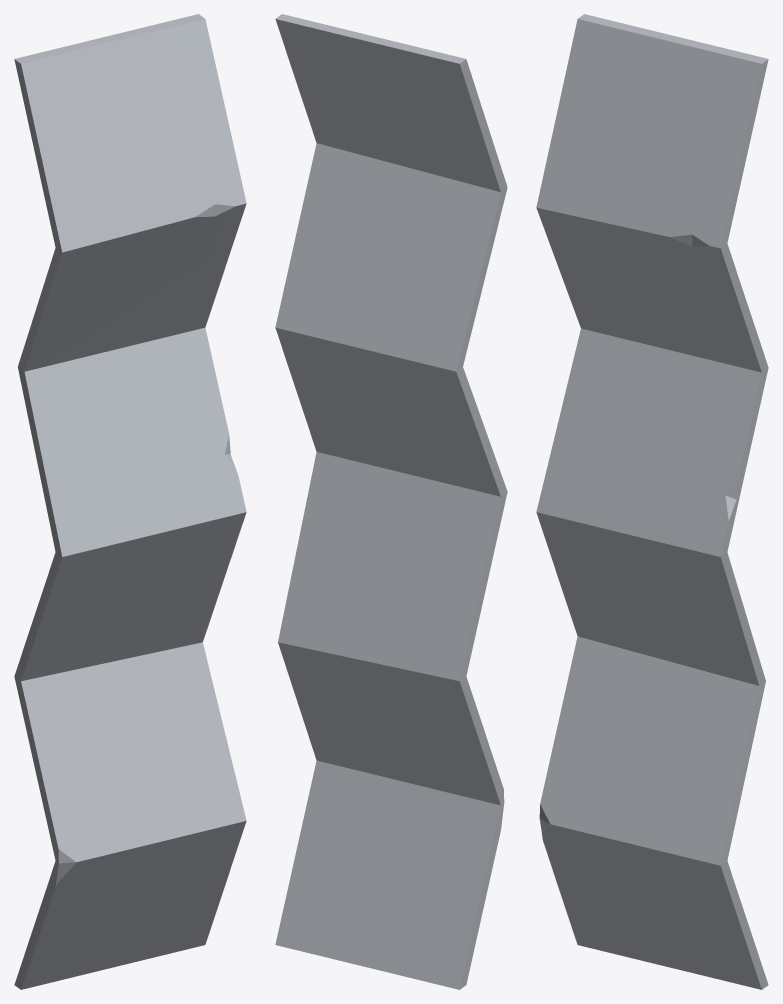
The model's file is SM_Bld_FeatureWall_Slate_02.glb.
The picture shows the model from 3 angles, left to right: view 1: azimuth 30°, elevation 25°; view 2: azimuth 150°, elevation 25°; view 3: azimuth 330°, elevation 25°; orthographic projection.
Parts seen in each view (by area): view 1: SM_Bld_FeatureWall_Slate_02; view 2: SM_Bld_FeatureWall_Slate_02; view 3: SM_Bld_FeatureWall_Slate_02.
Part boxes in pixels (bbox=[...]): SM_Bld_FeatureWall_Slate_02: bbox=[14, 14, 246, 989]; SM_Bld_FeatureWall_Slate_02: bbox=[275, 14, 507, 989]; SM_Bld_FeatureWall_Slate_02: bbox=[536, 14, 768, 989].
Bounding box in the file's own units: 0.625 × 3 × 0.2815.
1 material, 1 textured.
